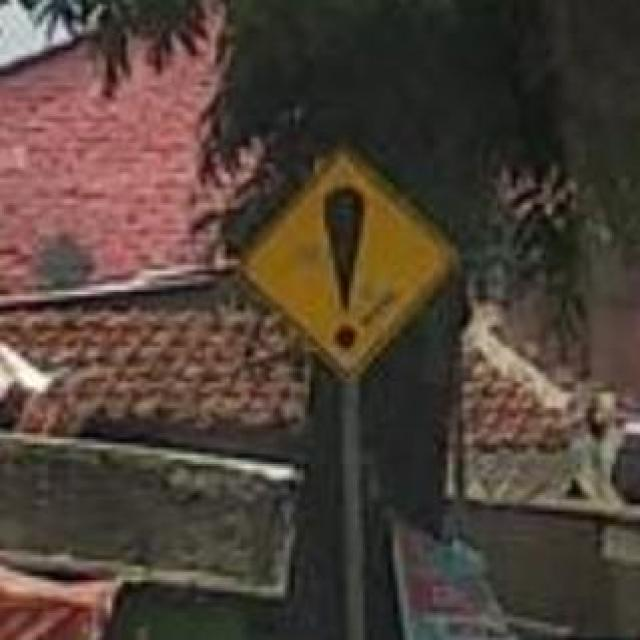traffic sign: (239, 151, 462, 370)
